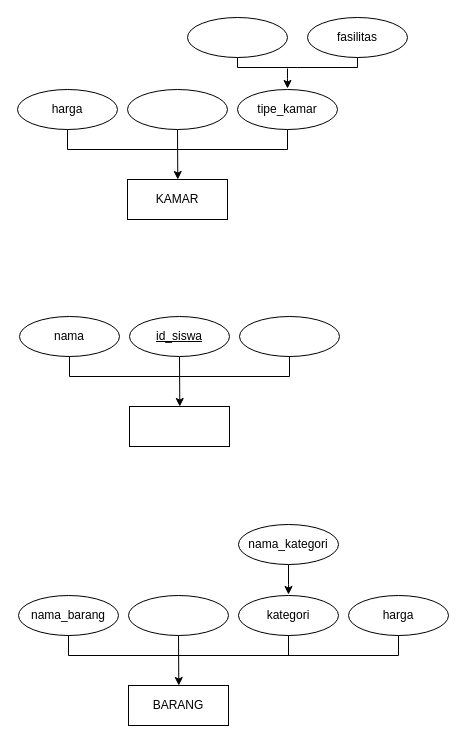
This 466x743 diagram has some shape labels left out. The centre of each missing label's shape, as x and y in pixels:
"id_barang" belongs at point (178, 615).
"id_kamar" belongs at point (177, 109).
"kelas" belongs at point (289, 336).
"nama_kamar" belongs at point (237, 37).
"SISWA" belongs at point (179, 426).
